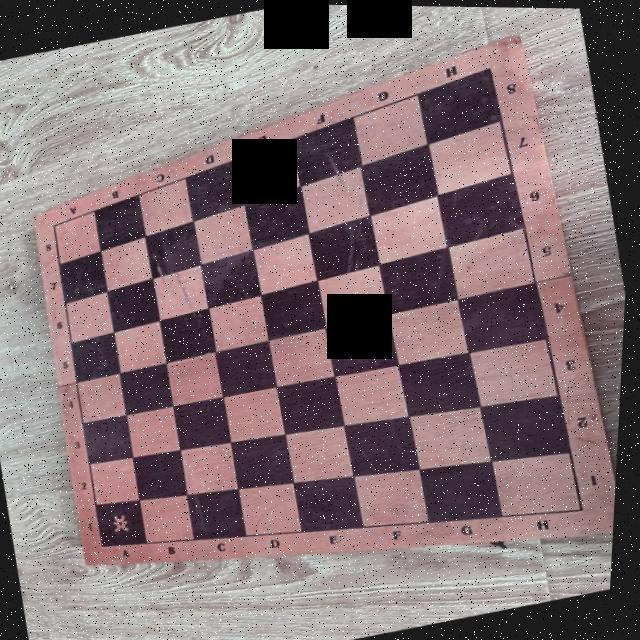chess-table-corners: (567, 496, 598, 521), (474, 54, 504, 78), (44, 218, 66, 235), (98, 538, 118, 553)
